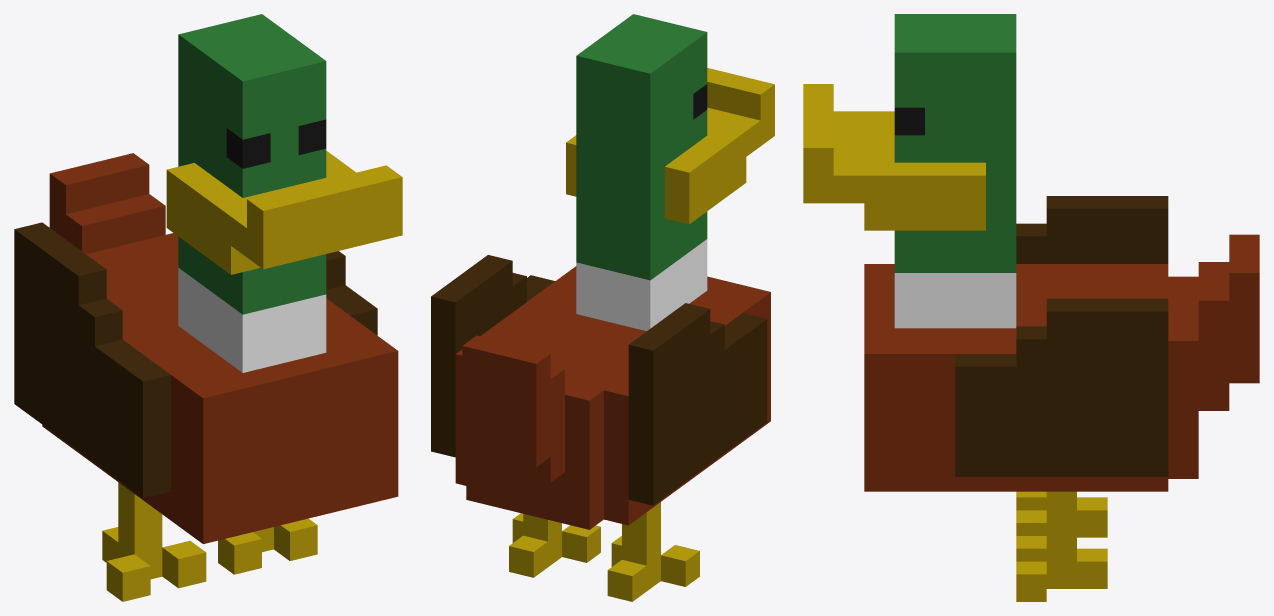
File: duck-00.obj
The picture shows the model from 3 angles, left to right: view 1: azimuth 30°, elevation 25°; view 2: azimuth 150°, elevation 25°; view 3: azimuth 270°, elevation 25°; orthographic projection. The views are drawn at different scales.
Size of the model in its own units: 9 by 19 by 15.
Materials: 1 (1 with a texture image).
